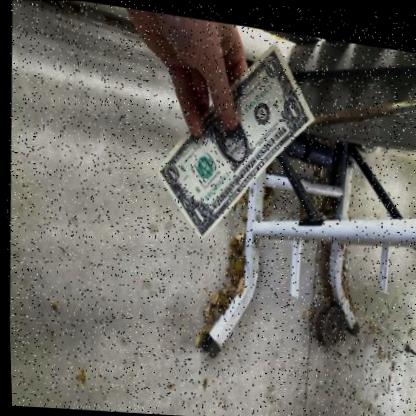one-front: (153, 34, 311, 237)
